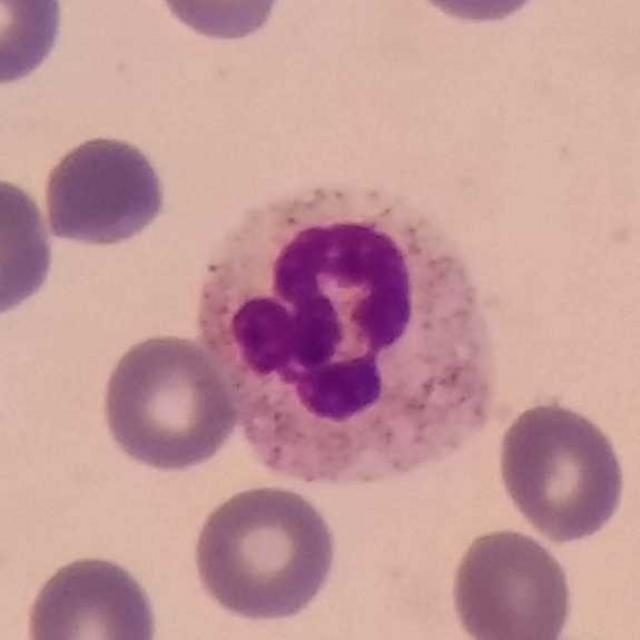Neutrophil: (196, 172, 501, 490)
RBC: (187, 481, 342, 625), (96, 330, 242, 476), (493, 398, 629, 546), (38, 130, 171, 252), (445, 524, 577, 640), (21, 550, 163, 640), (0, 170, 59, 325), (0, 0, 70, 91), (150, 0, 287, 46), (400, 0, 556, 28)
